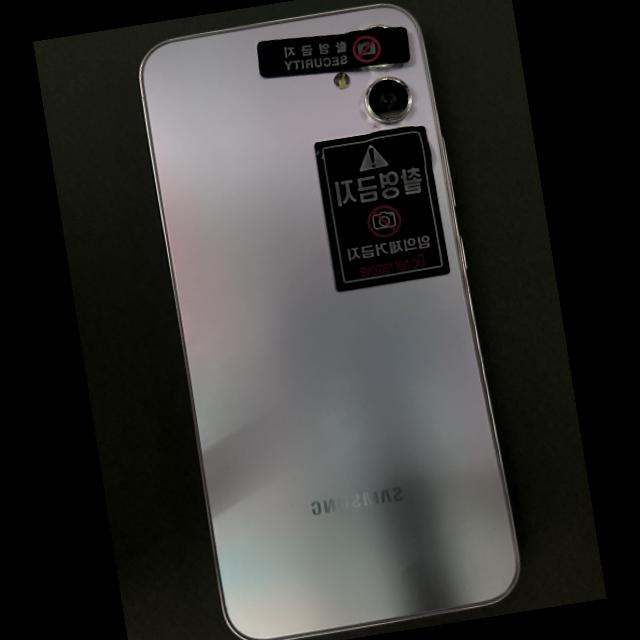lens: (363, 75, 411, 123), (365, 24, 390, 30)
phone: (140, 6, 518, 639)
sticker: (315, 127, 448, 291), (257, 27, 409, 78)
